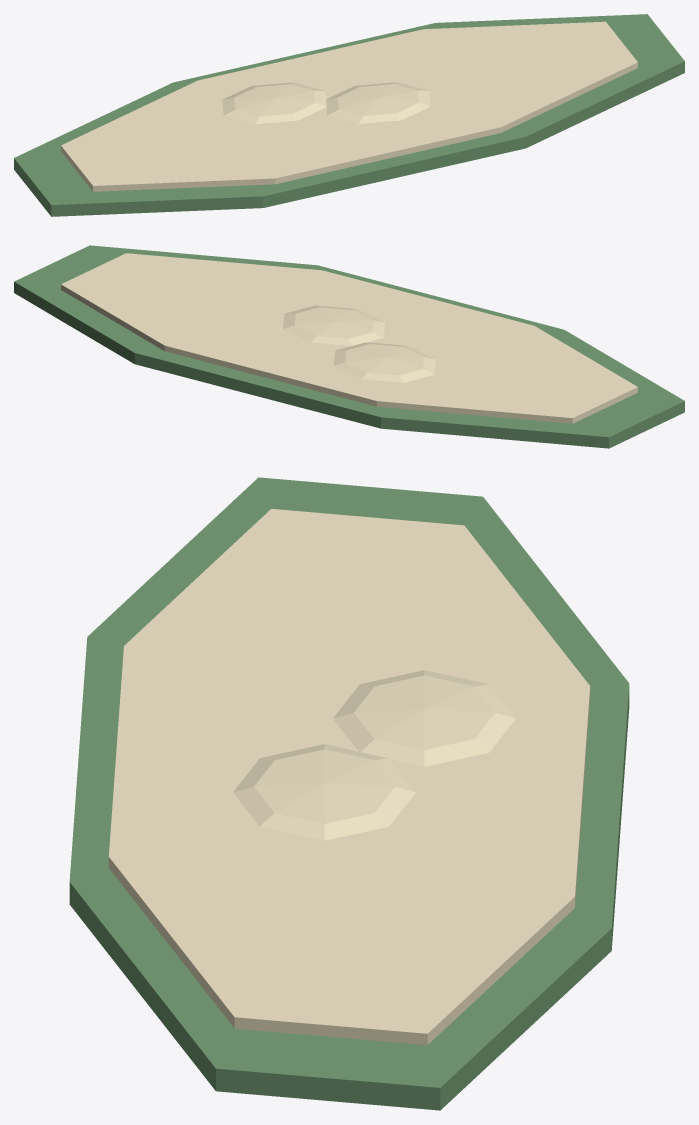
The model's file is golf-course-and-clubhouse-greenside-bunker-2bb0e1c5__33467.glb.
3 renders of one model, top to bottom at view 1: azimuth 30°, elevation 25°; view 2: azimuth 150°, elevation 25°; view 3: azimuth 270°, elevation 25°, orthographic. The views are drawn at different scales.
Visible parts, largest first — view 1: greenside-bunker; view 2: greenside-bunker; view 3: greenside-bunker.
Boxes of the visible parts, box(x1,y1,x2,y2) form: greenside-bunker: box(14, 14, 684, 216); greenside-bunker: box(14, 245, 684, 448); greenside-bunker: box(69, 477, 629, 1110).
Bounding box in the file's own units: 5.78 × 0.19 × 2.24.
